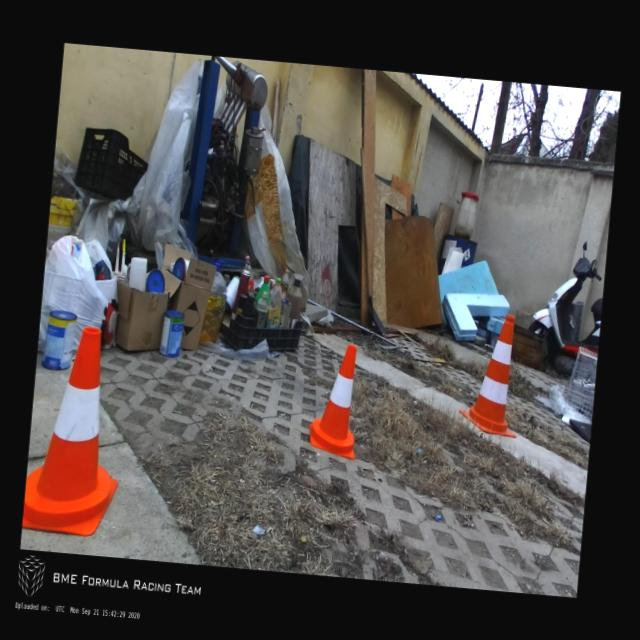large_orange_cone: (457, 310, 526, 438)
orange_cone: (21, 322, 130, 538), (306, 341, 364, 461)
